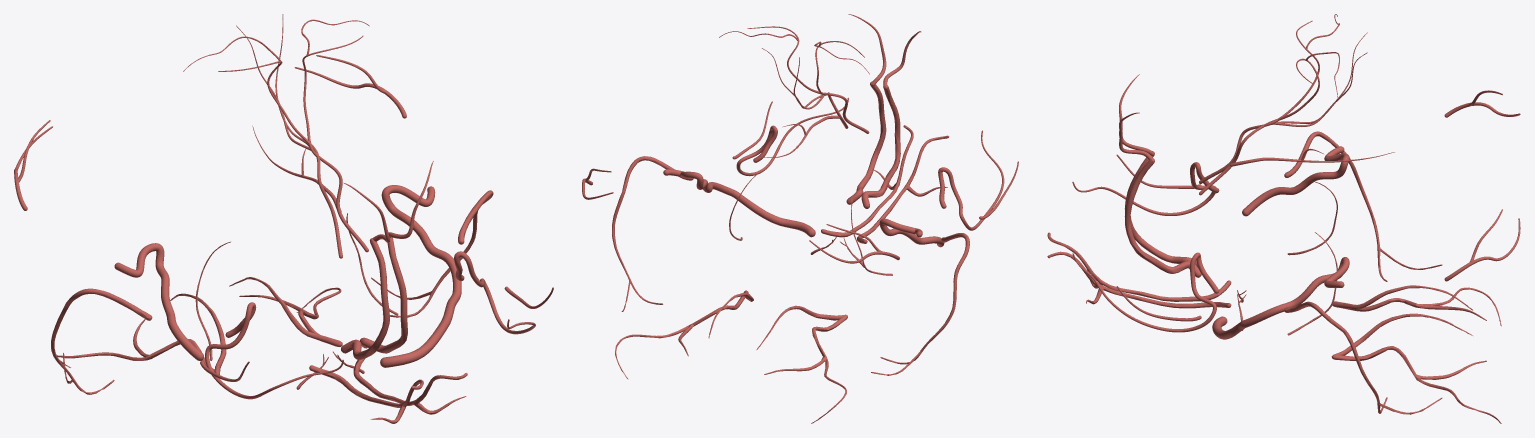
Rendered from other-25.glb.
3 renders of one model, left to right at view 1: azimuth 30°, elevation 25°; view 2: azimuth 150°, elevation 25°; view 3: azimuth 270°, elevation 25°, orthographic. The views are drawn at different scales.
Parts seen in each view (by area): view 1: FJ1694, FJ1694M, FJ1676, FJ1685, FJ1692M, FJ1693, FJ1676M, FJ1693M, FJ1690M, FJ1685M, FJ1696M, FJ1690 (+6 smaller); view 2: FJ1676, FJ1685M, FJ1685, FJ1693, FJ1693M, FJ1676M, FJ1692M, FJ1694, FJ1690M, FJ1690, FJ1683, FJ1683M (+4 smaller); view 3: FJ1694, FJ1685M, FJ1694M, FJ1676M, FJ1693, FJ1683M, FJ1690, FJ1693M, FJ1690M, FJ1685, FJ1683, FJ1676 (+7 smaller).
Part boxes in pixels (x1,y1,x2,y2): FJ1694: (114, 243, 203, 360); FJ1694M: (381, 185, 461, 294); FJ1676: (341, 238, 389, 359); FJ1685: (205, 302, 343, 399); FJ1692M: (380, 291, 460, 367); FJ1693: (51, 288, 152, 394); FJ1676M: (359, 237, 407, 353); FJ1693M: (371, 190, 493, 317); FJ1690M: (353, 358, 467, 414); FJ1685M: (454, 251, 535, 334); FJ1696M: (302, 35, 368, 252); FJ1690: (309, 365, 423, 423); FJ1676: (861, 85, 900, 208); FJ1685M: (736, 97, 848, 176); FJ1685: (938, 130, 1004, 230); FJ1693: (871, 233, 969, 375); FJ1693M: (612, 156, 693, 311); FJ1676M: (846, 81, 886, 204); FJ1692M: (731, 190, 815, 237); FJ1694: (879, 218, 944, 247); FJ1690M: (821, 125, 913, 237); FJ1690: (857, 135, 949, 243); FJ1683: (764, 316, 847, 423); FJ1683M: (615, 291, 747, 379); FJ1694: (1242, 146, 1349, 216); FJ1685M: (1072, 252, 1219, 332); FJ1694M: (1242, 257, 1349, 327); FJ1676M: (1124, 158, 1201, 277); FJ1693: (1284, 131, 1442, 281); FJ1683M: (1332, 346, 1501, 423); FJ1690: (1047, 232, 1231, 301); FJ1693M: (1284, 301, 1442, 414); FJ1690M: (1047, 251, 1231, 308); FJ1685: (1072, 162, 1219, 215); FJ1683: (1333, 287, 1501, 326); FJ1676: (1124, 151, 1198, 267).
Bounding box in the file's own units: 0.1419 × 0.1212 × 0.1549.
